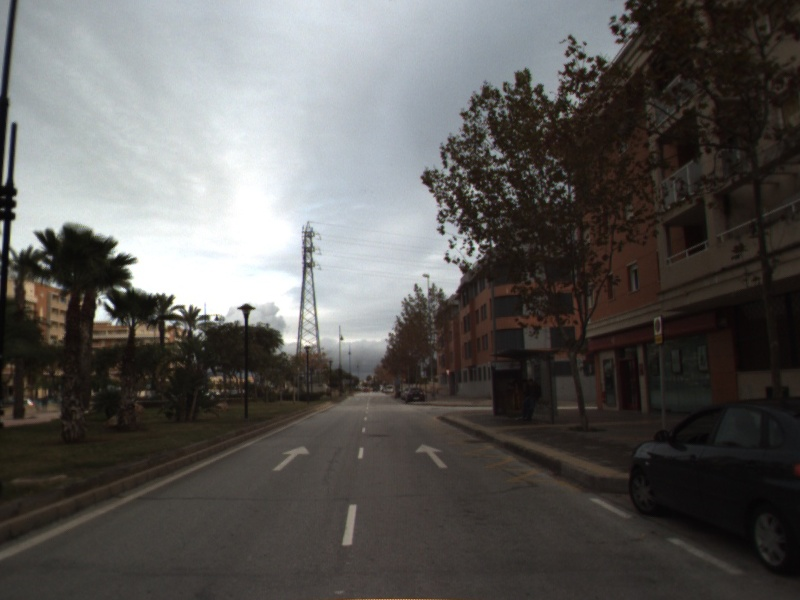STRAIGHT: (270, 443, 312, 473), (414, 441, 450, 470)
